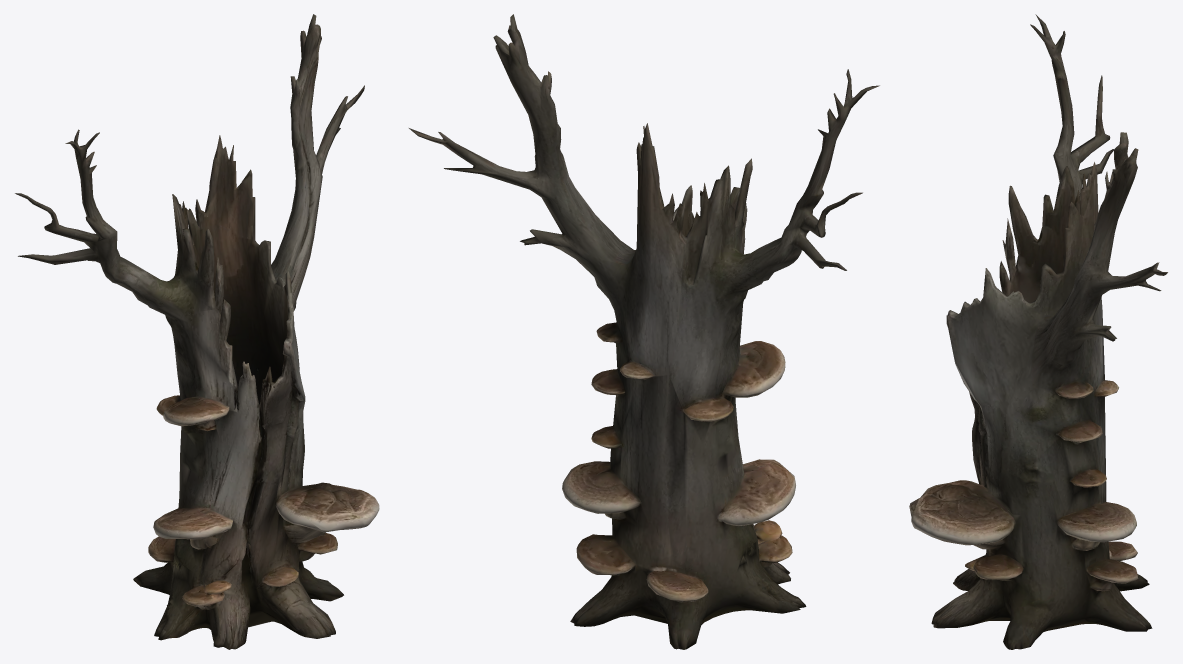
Rendered from deadtreesnag.opt.glb.
The picture shows the model from 3 angles, left to right: view 1: azimuth 30°, elevation 25°; view 2: azimuth 150°, elevation 25°; view 3: azimuth 270°, elevation 25°; orthographic projection. The views are drawn at different scales.
Visible parts, largest first — view 1: node_0; view 2: node_0; view 3: node_0.
Boxes of the visible parts, box(x1,y1,x2,y2) form: node_0: box(15, 14, 379, 649); node_0: box(409, 14, 879, 649); node_0: box(909, 14, 1167, 649).
Bounding box in the file's own units: 0.7879 × 1.04 × 0.4612.
Materials: 1 (1 with a texture image).
